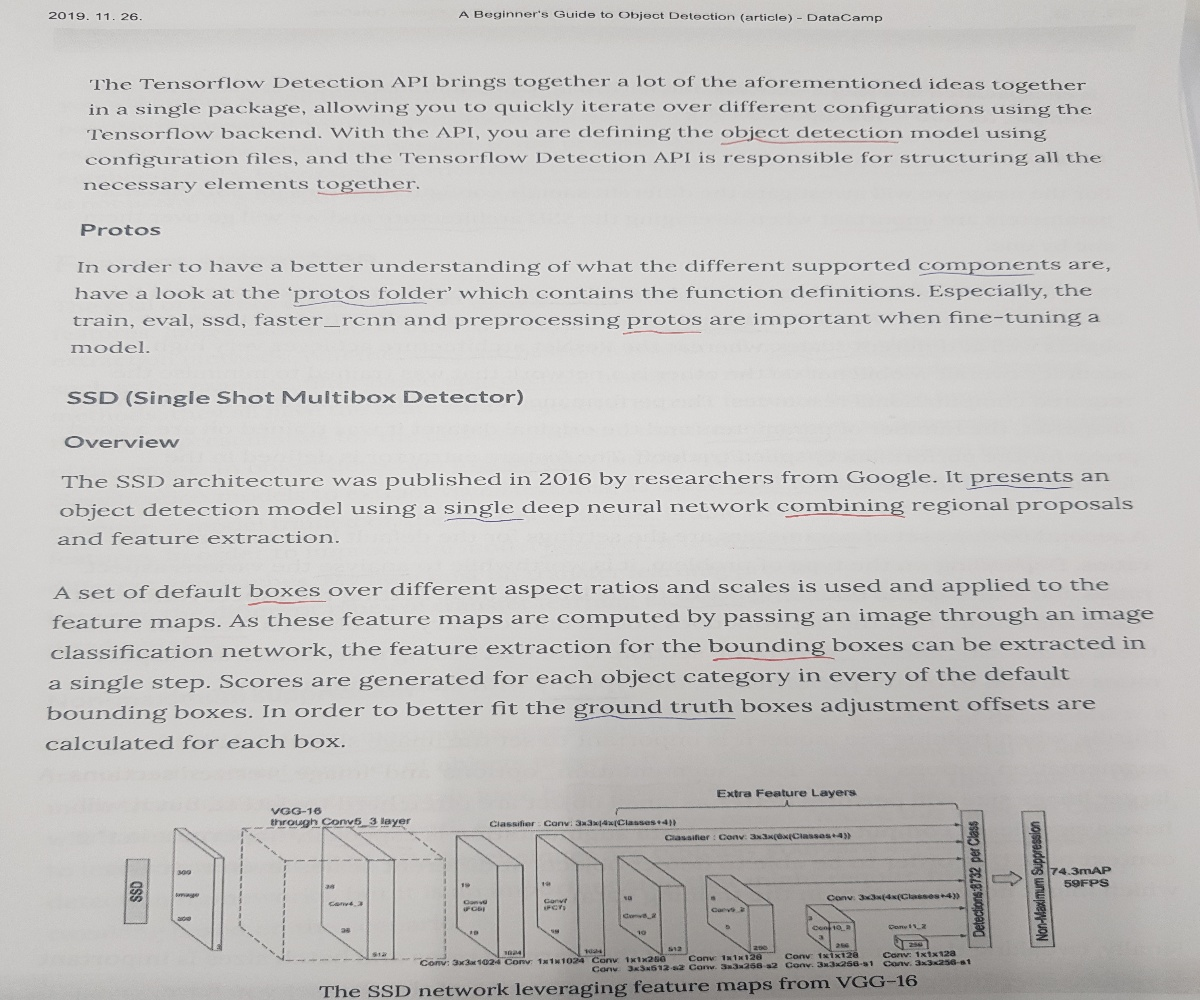underline: (570, 713, 741, 725), (717, 138, 900, 148), (780, 511, 908, 523), (712, 652, 838, 664), (915, 270, 1035, 282), (290, 298, 432, 308), (963, 482, 1077, 494), (442, 513, 533, 528), (315, 189, 413, 201), (619, 326, 705, 339), (243, 597, 328, 609)
